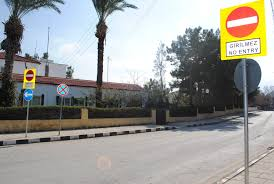Girilmez: (225, 7, 257, 36)
